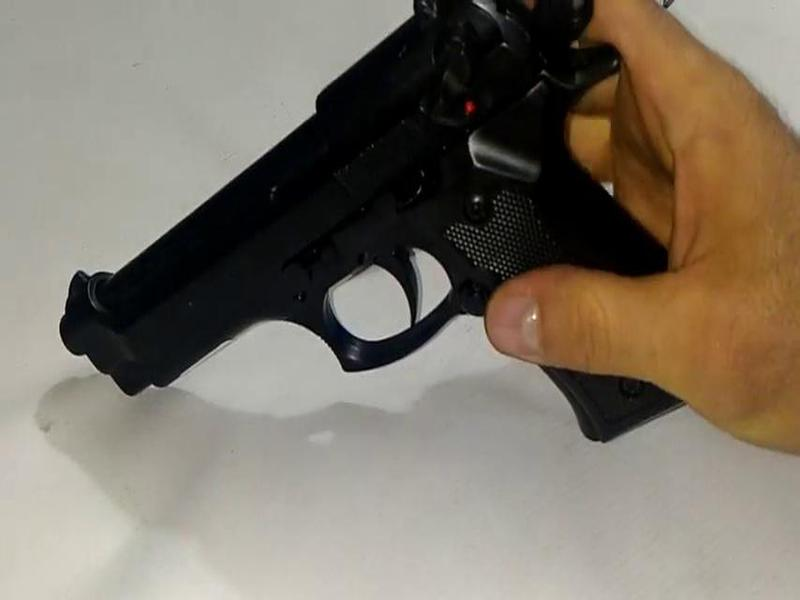Pistola: (16, 1, 741, 454)
